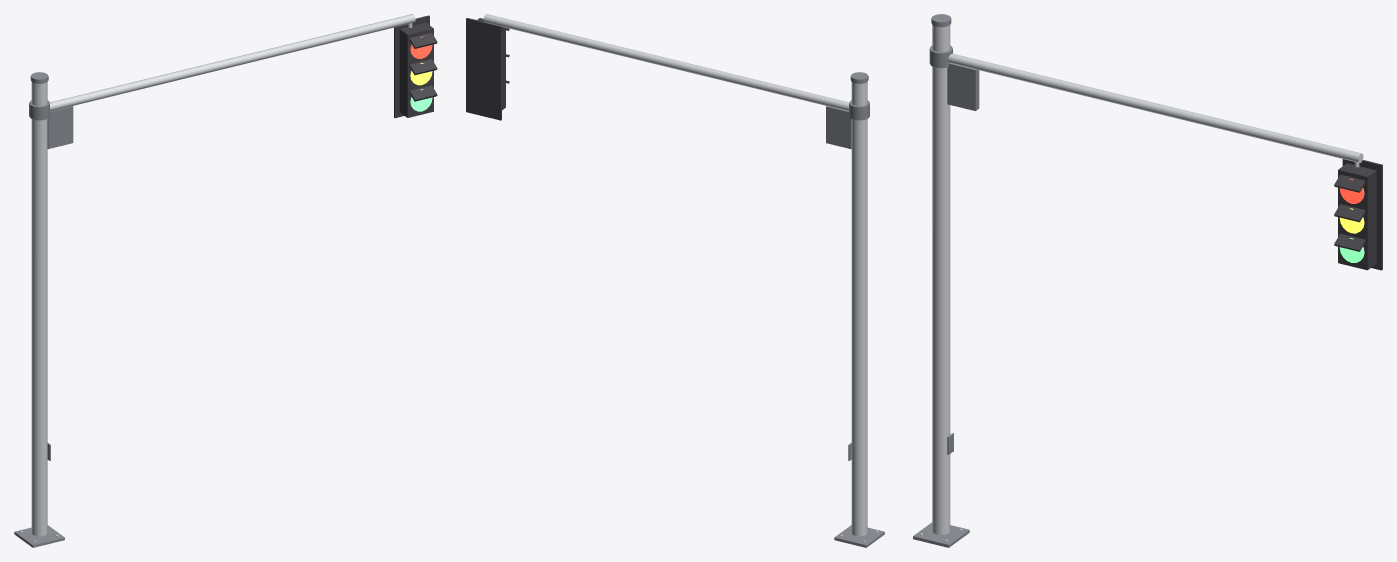
Rendered from TrafficSignal_Mast.fbx.
The picture shows the model from 3 angles, left to right: view 1: azimuth 30°, elevation 25°; view 2: azimuth 150°, elevation 25°; view 3: azimuth 330°, elevation 25°; orthographic projection. The views are drawn at different scales.
Parts seen in each view (by area): view 1: LOD0; view 2: LOD0; view 3: LOD0.
Part boxes in pixels (left/top/right/bottom): LOD0: left=14, top=14, right=437, bottom=547; LOD0: left=466, top=14, right=884, bottom=547; LOD0: left=913, top=14, right=1382, bottom=547.
Size of what is drawn, in the model's own units: 583 by 631 by 54.77.
